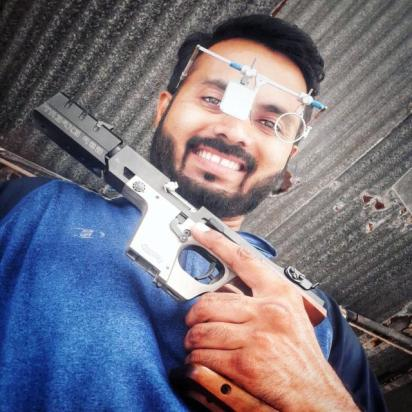Gun: (26, 87, 331, 411)
